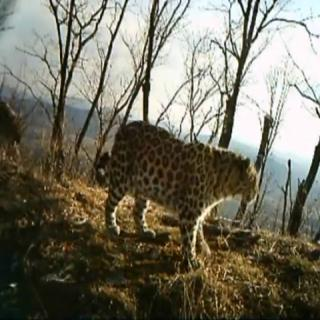Leopard: (86, 93, 278, 262)
